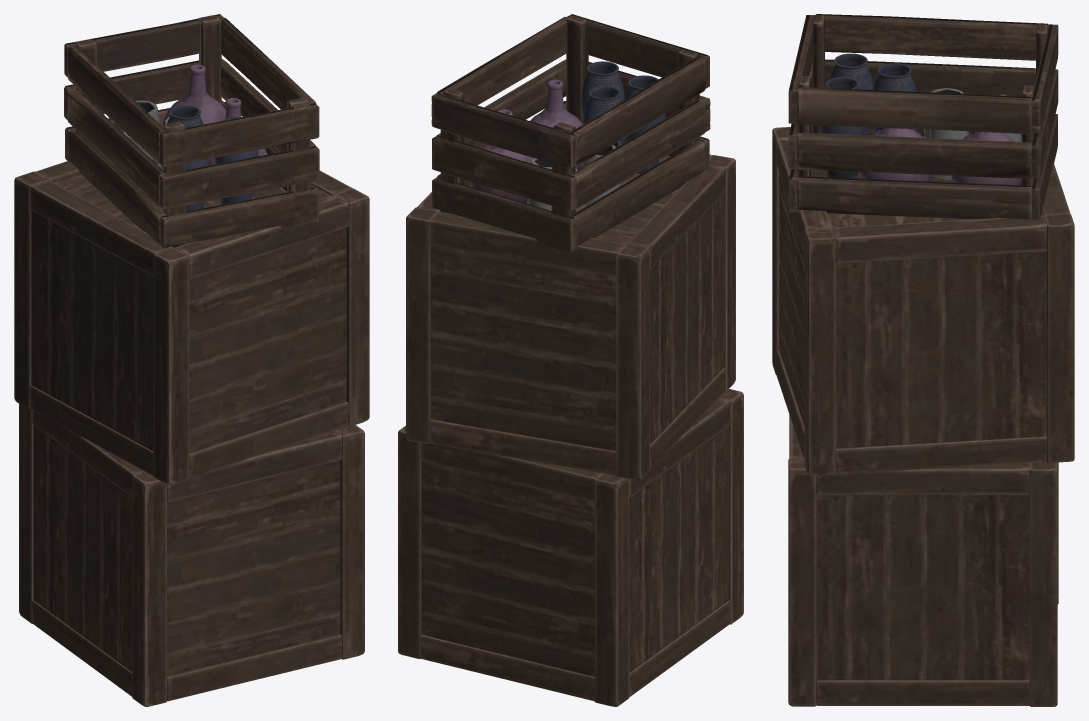
File: CratePile1.glb
3 renders of one model, left to right at view 1: azimuth 30°, elevation 25°; view 2: azimuth 150°, elevation 25°; view 3: azimuth 270°, elevation 25°, orthographic. The views are drawn at different scales.
Parts seen in each view (by area): view 1: Crate2, Flask, VaseC; view 2: Crate2, VaseC, Flask; view 3: Crate2, VaseC, Flask.
Boxes of the visible parts, bbox=[...] form: Crate2: bbox=[14, 14, 369, 706]; Flask: bbox=[108, 64, 267, 192]; VaseC: bbox=[167, 105, 258, 211]; Crate2: bbox=[398, 14, 743, 706]; VaseC: bbox=[581, 61, 665, 173]; Flask: bbox=[470, 79, 620, 210]; Crate2: bbox=[772, 14, 1074, 706]; VaseC: bbox=[819, 53, 916, 178]; Flask: bbox=[859, 88, 1021, 185].
Size of the model in its own units: 0.8393 by 1.83 by 0.8393.
Materials: 3 (3 with a texture image).
